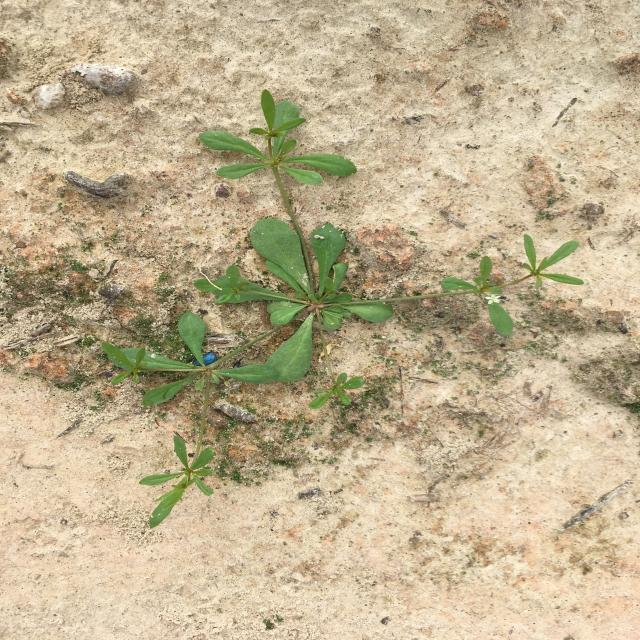Carpetweed: (101, 90, 584, 530)
